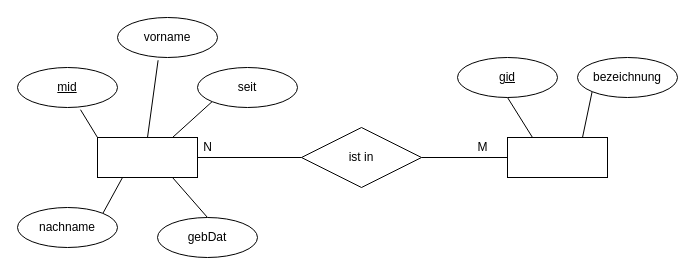
Image size: 695x275. Some labels were removed from this diagram. The centre of each missing label's shape, as x and y in pixels:
"Gruppe" goes at point (557, 157).
"Mitglied" goes at point (147, 157).
